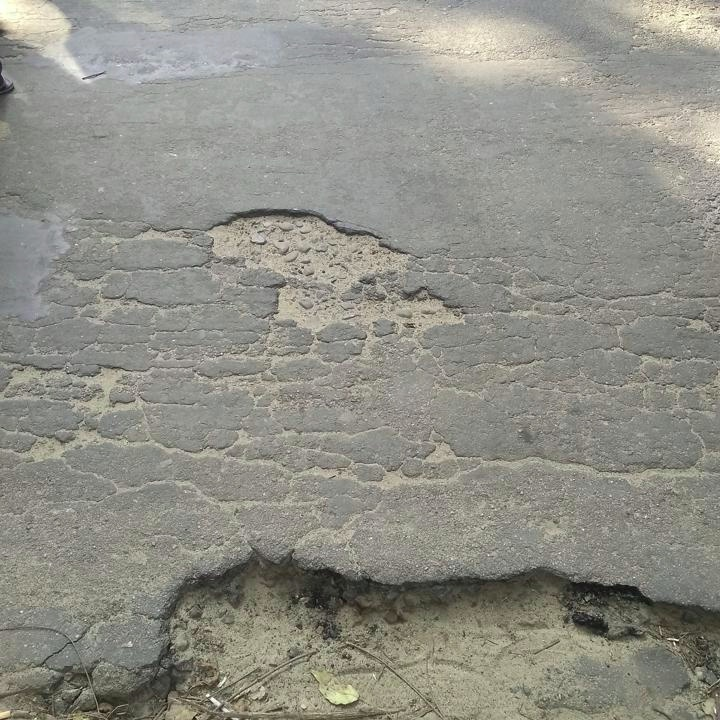pothole: (25, 537, 719, 718), (203, 204, 470, 332)
